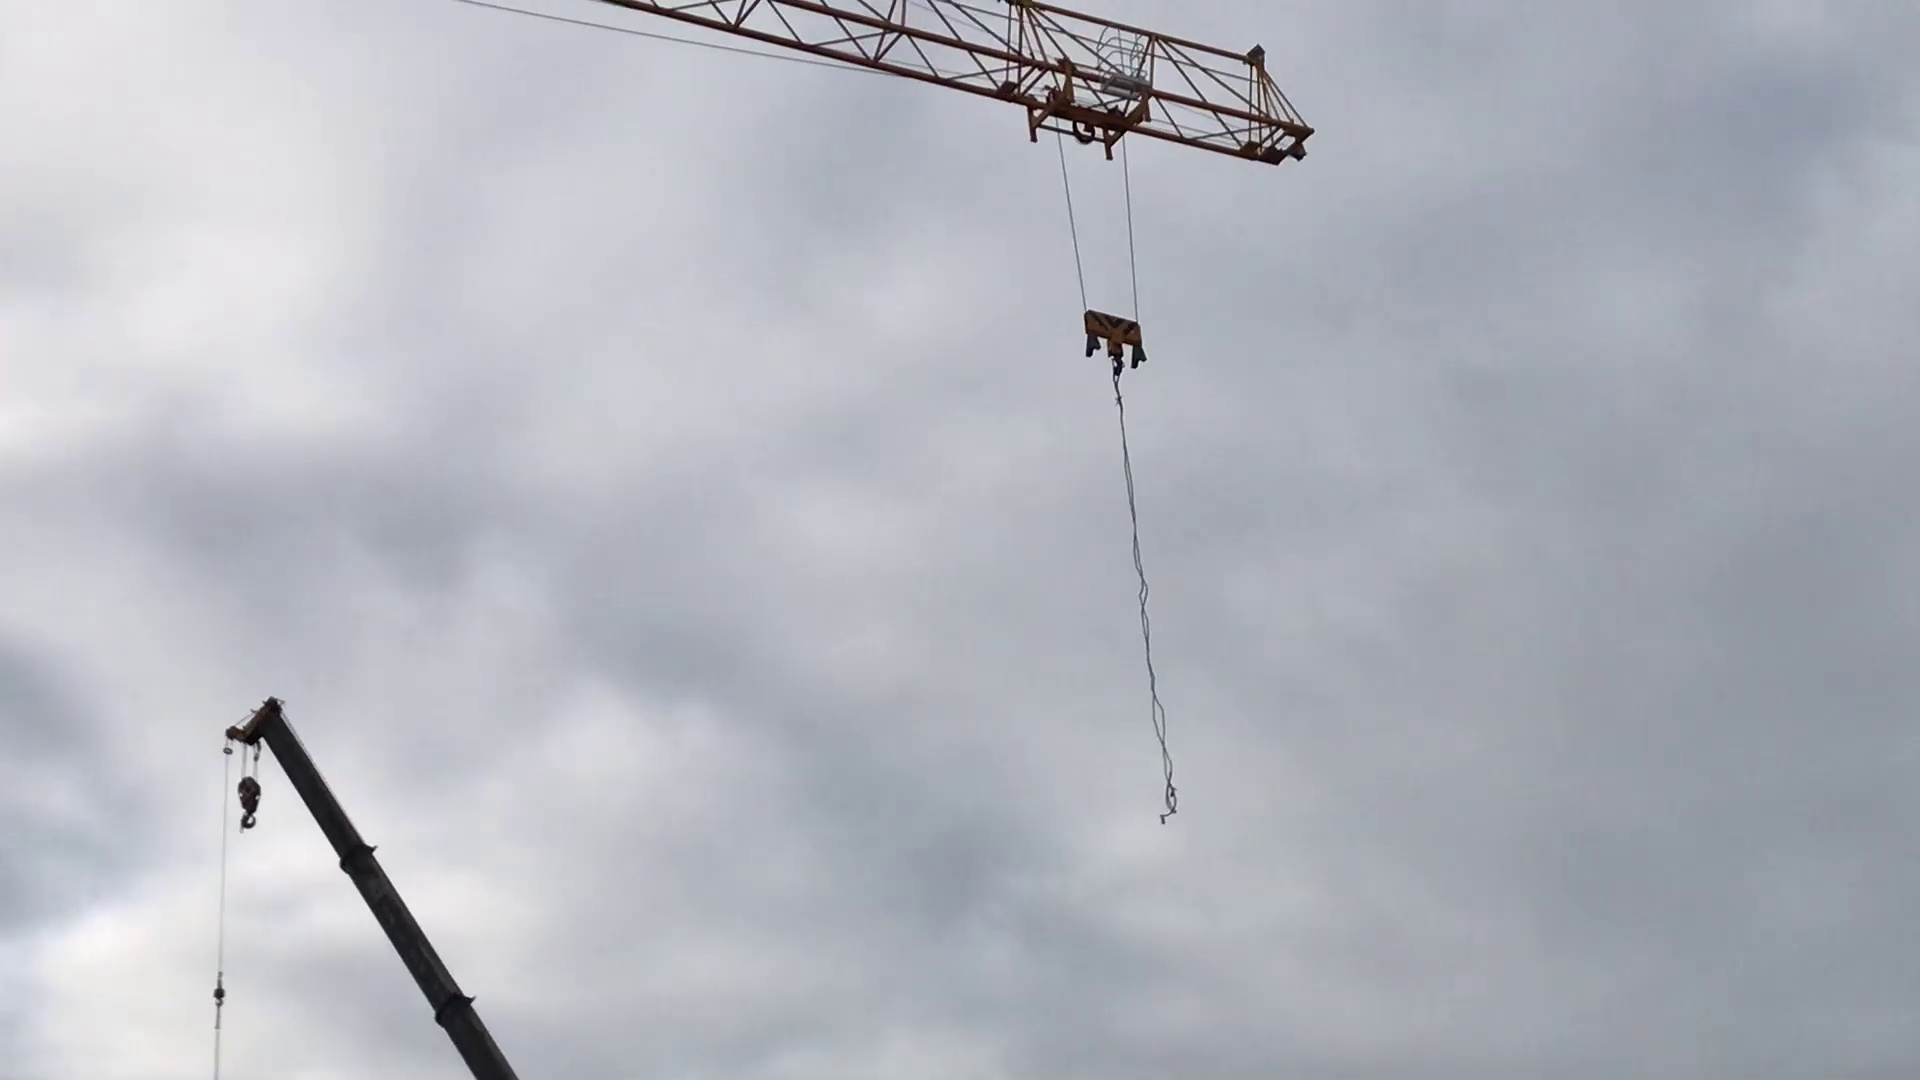hook: (1077, 301, 1153, 377)
